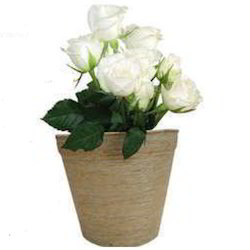flowerpot: (55, 128, 179, 245)
